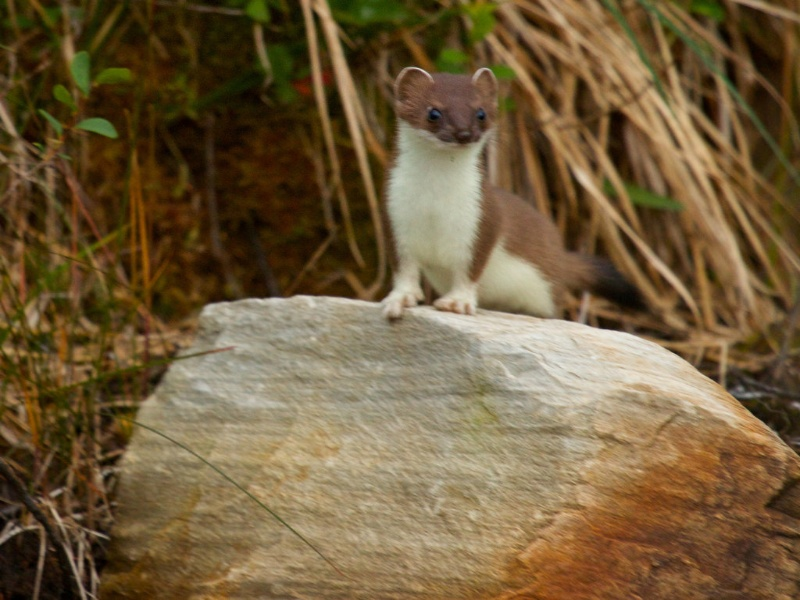minkish: (360, 59, 601, 333)
